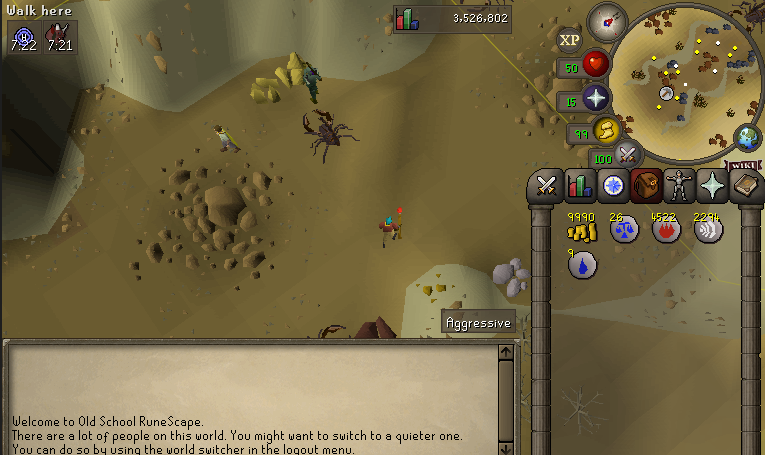iron: (350, 314, 397, 340)
